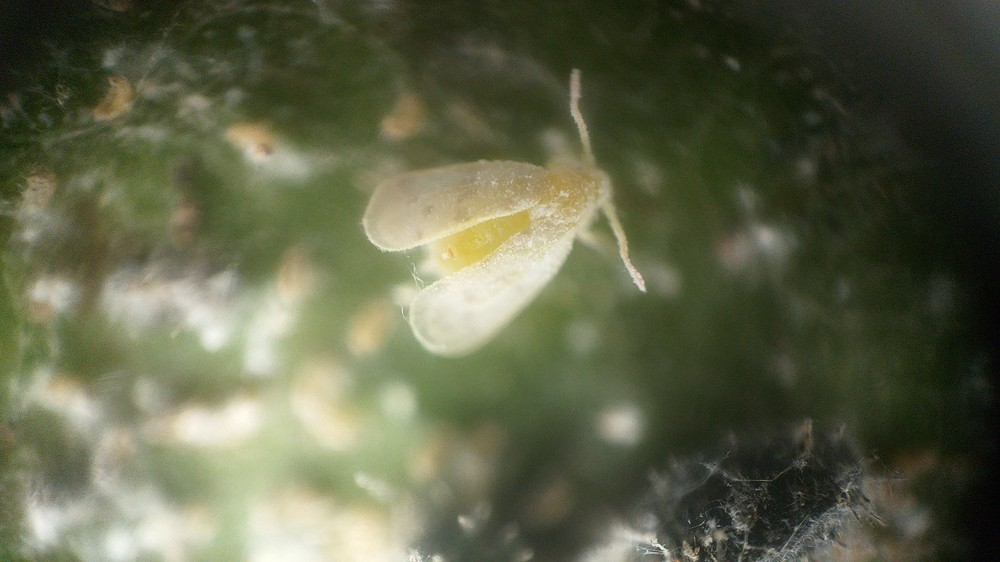Mosca Blanca: (348, 63, 685, 370)
